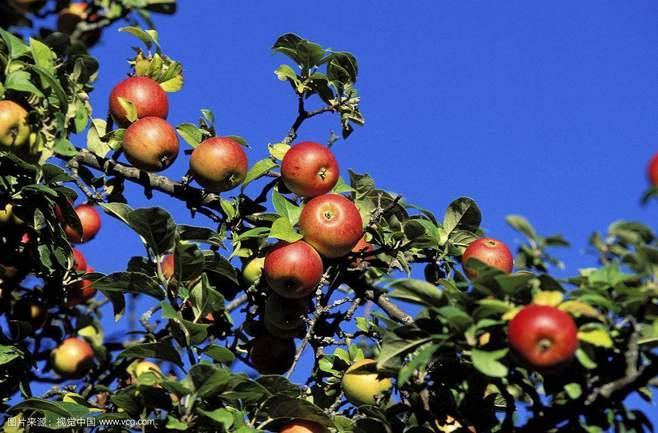apple: (507, 306, 580, 371), (300, 192, 362, 258), (263, 240, 322, 298), (187, 135, 249, 190), (279, 140, 339, 196), (122, 116, 180, 172), (107, 76, 168, 123), (462, 237, 513, 279), (51, 337, 93, 380), (241, 256, 263, 284)
